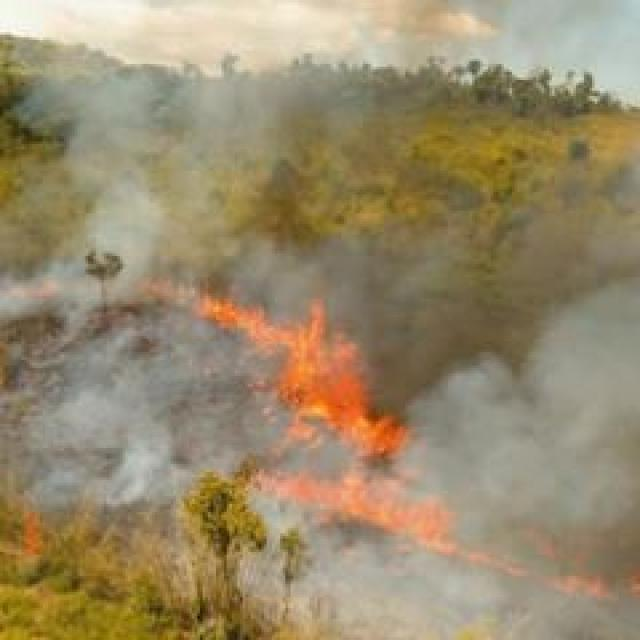Fire: (125, 266, 640, 614)
Smoke: (5, 0, 639, 621)
